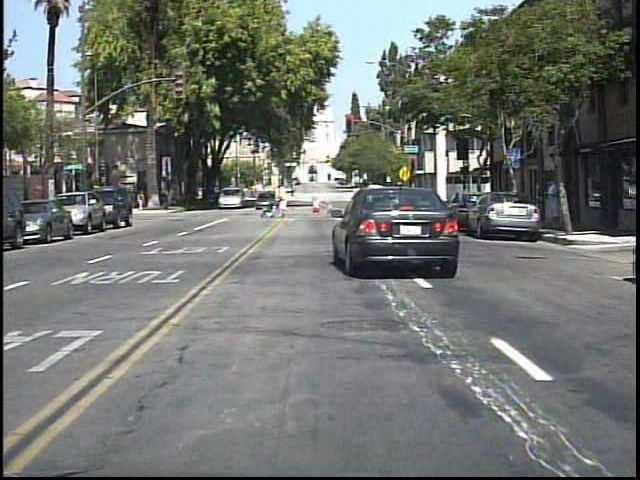person: (539, 174, 560, 232), (277, 182, 294, 220), (137, 189, 146, 213)
